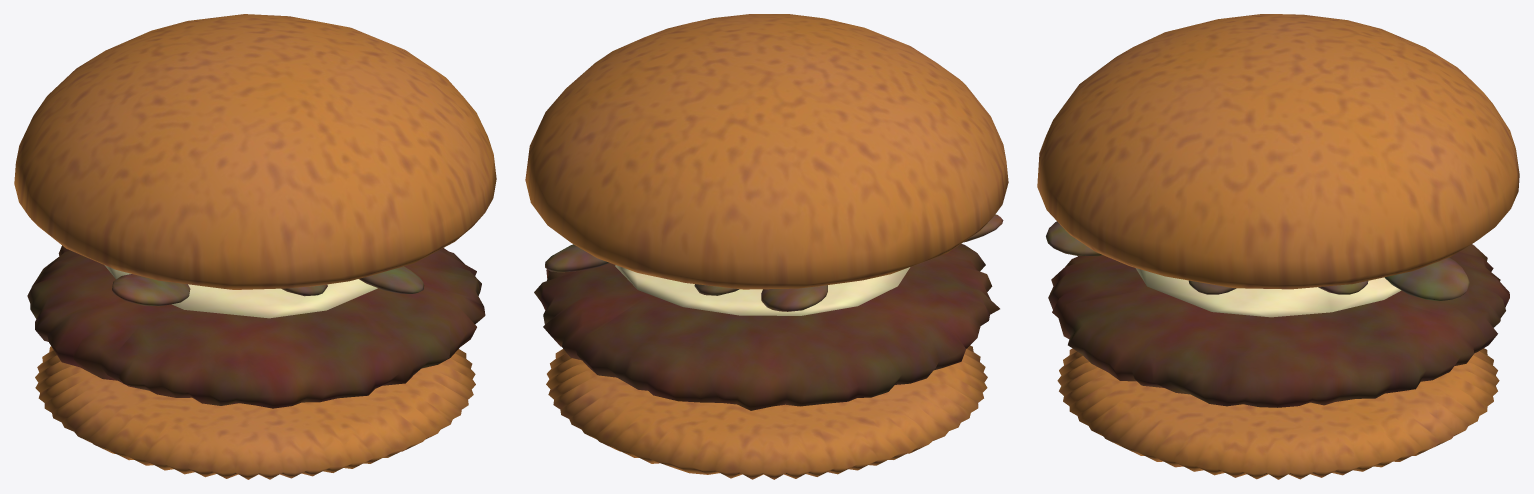
The model's file is truffle-mushroom-cheese-burger-ultralight.glb.
3 views of the same model, side by side, from view 1: azimuth 30°, elevation 25°; view 2: azimuth 150°, elevation 25°; view 3: azimuth 270°, elevation 25° (orthographic).
Parts seen in each view (by area): view 1: Mesh_Truffle_Brioche_Buns, Mesh_Seared_Gourmet_Patty, Mesh_Swiss_Gruyere_Cheese_Blanket, Mesh_Sauteed_Wild_Mushrooms_And_Aioli; view 2: Mesh_Truffle_Brioche_Buns, Mesh_Seared_Gourmet_Patty, Mesh_Swiss_Gruyere_Cheese_Blanket, Mesh_Sauteed_Wild_Mushrooms_And_Aioli; view 3: Mesh_Truffle_Brioche_Buns, Mesh_Seared_Gourmet_Patty, Mesh_Swiss_Gruyere_Cheese_Blanket, Mesh_Sauteed_Wild_Mushrooms_And_Aioli.
Part boxes in pixels (x1=…): Mesh_Truffle_Brioche_Buns: x1=14, y1=14, x2=496, y2=479; Mesh_Seared_Gourmet_Patty: x1=27, y1=245, x2=485, y2=408; Mesh_Swiss_Gruyere_Cheese_Blanket: x1=104, y1=265, x2=377, y2=318; Mesh_Sauteed_Wild_Mushrooms_And_Aioli: x1=112, y1=266, x2=424, y2=306; Mesh_Truffle_Brioche_Buns: x1=525, y1=14, x2=1008, y2=479; Mesh_Seared_Gourmet_Patty: x1=534, y1=244, x2=999, y2=410; Mesh_Swiss_Gruyere_Cheese_Blanket: x1=615, y1=265, x2=910, y2=315; Mesh_Sauteed_Wild_Mushrooms_And_Aioli: x1=545, y1=214, x2=1003, y2=311; Mesh_Truffle_Brioche_Buns: x1=1037, y1=14, x2=1519, y2=479; Mesh_Seared_Gourmet_Patty: x1=1048, y1=244, x2=1509, y2=407; Mesh_Swiss_Gruyere_Cheese_Blanket: x1=1135, y1=268, x2=1401, y2=317; Mesh_Sauteed_Wild_Mushrooms_And_Aioli: x1=1046, y1=221, x2=1469, y2=301.
Size of the model in its own units: 2 by 1.67 by 2.
4 materials, 4 textured.
